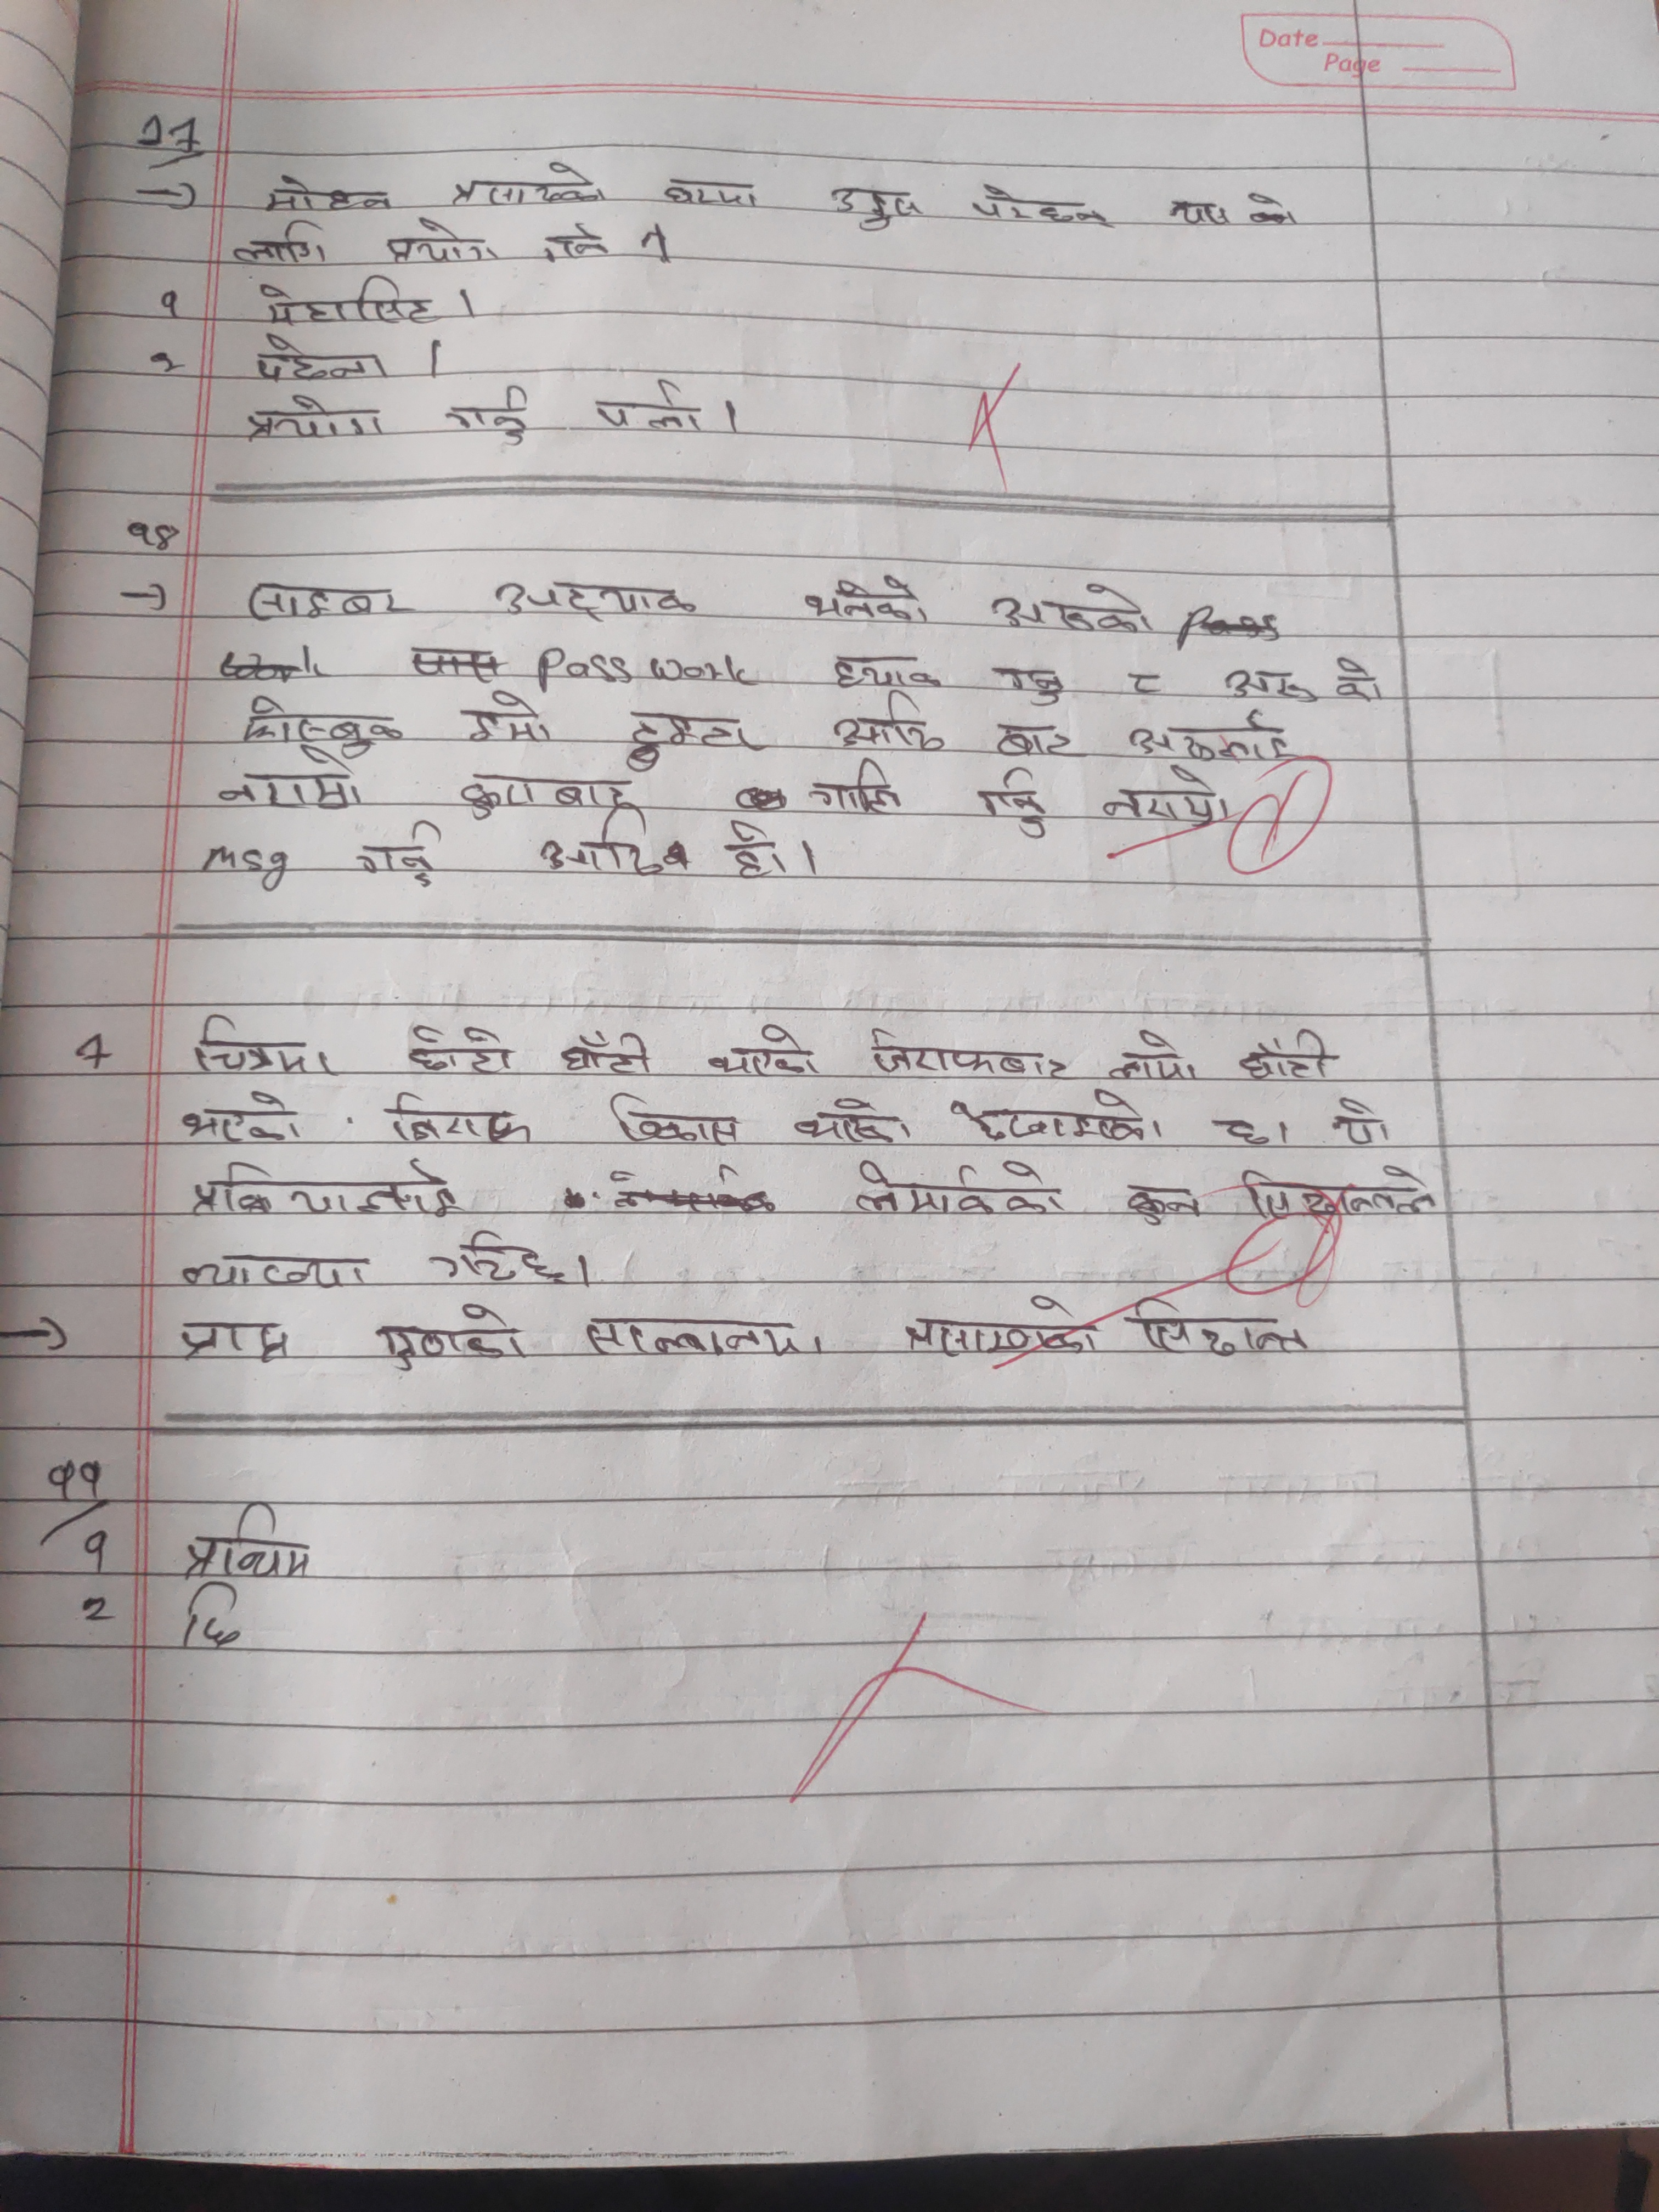text: (192, 1160, 460, 1221), (849, 1155, 1065, 1221), (868, 1024, 1077, 1082), (1127, 1292, 1314, 1357), (1243, 1165, 1445, 1224), (906, 1298, 1096, 1360), (584, 1312, 826, 1360), (253, 272, 446, 331), (211, 749, 369, 820), (948, 1092, 1154, 1146), (186, 1010, 345, 1080), (371, 1299, 530, 1369), (183, 1503, 315, 1580), (985, 585, 1155, 641), (498, 575, 701, 620), (460, 768, 634, 820), (1124, 711, 1295, 763), (617, 709, 760, 770), (533, 813, 662, 880), (237, 700, 404, 751), (1094, 766, 1236, 826), (382, 1096, 538, 1148), (176, 1251, 369, 1292), (603, 1089, 746, 1144), (235, 580, 410, 624), (965, 183, 1114, 233), (239, 392, 387, 442), (178, 1089, 303, 1148), (803, 571, 931, 629), (444, 164, 605, 209), (432, 1230, 566, 1284), (835, 693, 948, 756), (793, 1094, 915, 1150), (249, 334, 396, 380), (385, 214, 507, 268), (708, 1022, 817, 1080), (803, 756, 904, 817), (350, 820, 439, 888), (403, 1024, 518, 1076), (446, 385, 537, 451), (1239, 1026, 1342, 1083), (594, 381, 706, 434), (228, 218, 333, 272), (464, 690, 556, 749), (979, 768, 1053, 841), (1105, 1029, 1204, 1082), (260, 176, 392, 214), (830, 650, 945, 691), (565, 1028, 655, 1078), (181, 1318, 286, 1362), (721, 819, 795, 880), (183, 1576, 242, 1651), (831, 185, 925, 230), (1223, 664, 1317, 709), (662, 172, 767, 212), (1331, 1090, 1399, 1150), (538, 216, 619, 265), (997, 721, 1084, 765), (990, 660, 1070, 705), (1126, 1181, 1206, 1226), (1330, 653, 1387, 702), (1215, 1116, 1277, 1153), (1168, 193, 1230, 228), (1127, 669, 1169, 702)
